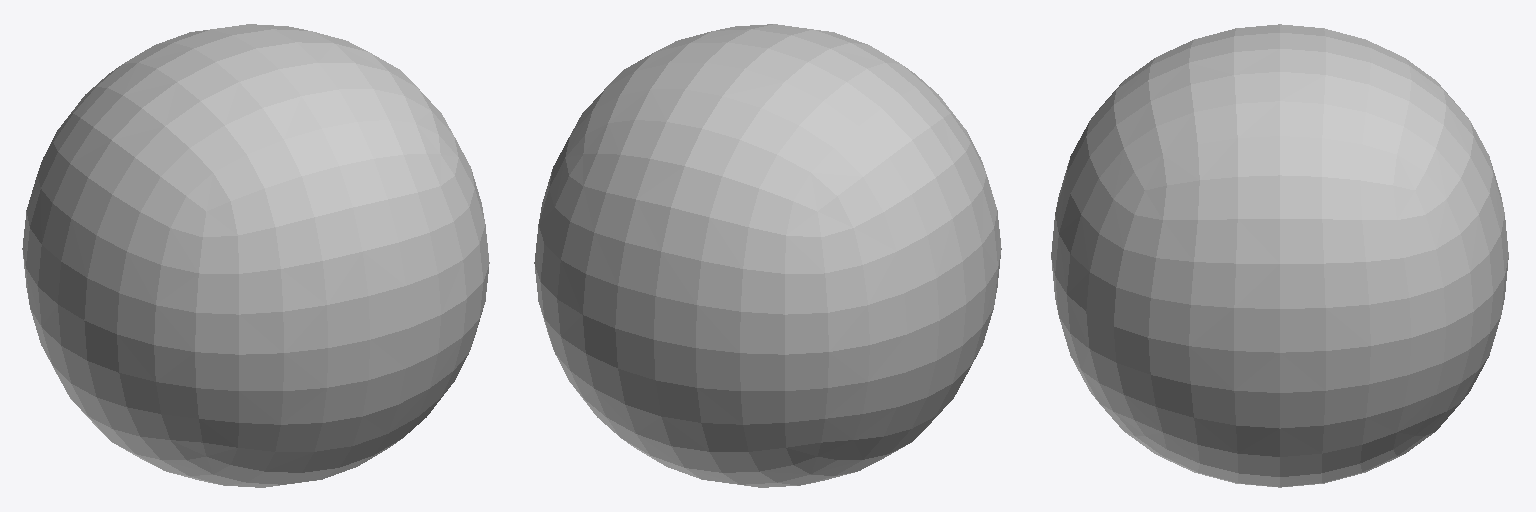
The model's file is animation4.obj.
3 renders of one model, left to right at view 1: azimuth 30°, elevation 25°; view 2: azimuth 150°, elevation 25°; view 3: azimuth 270°, elevation 25°, orthographic.
Visible parts, largest first — view 1: Cube; view 2: Cube; view 3: Cube.
Part boxes in pixels (left/top/right/bottom): Cube: left=22, top=24, right=489, bottom=487; Cube: left=534, top=24, right=1001, bottom=487; Cube: left=1051, top=24, right=1508, bottom=487.
Size of the model in its own units: 1.7 by 1.7 by 1.7.